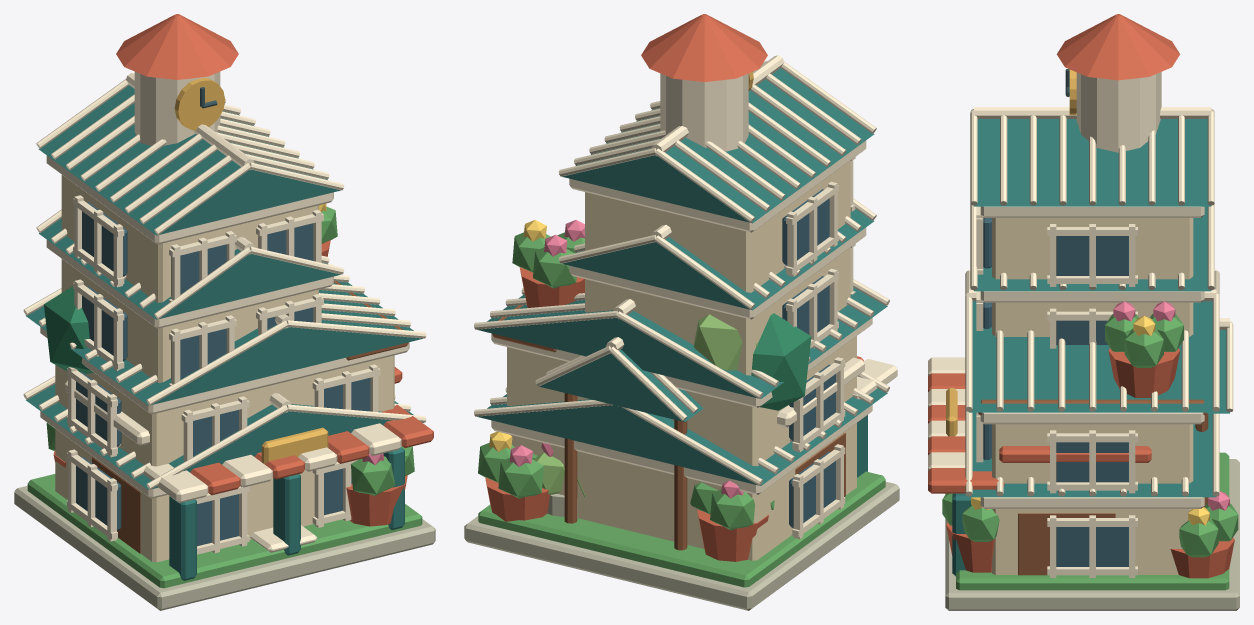
Rendered from commerce.glb.
The picture shows the model from 3 angles, left to right: view 1: azimuth 30°, elevation 25°; view 2: azimuth 150°, elevation 25°; view 3: azimuth 270°, elevation 25°; orthographic projection. The views are drawn at different scales.
Visible parts, largest first — view 1: commerce_mall_4_mesh, commerce_mall_1_mesh, commerce_mall_2_mesh, commerce_mall_3_mesh, commerce_mall_0_mesh, commerce_park_0_mesh, commerce_park_1_mesh; view 2: commerce_mall_4_mesh, commerce_mall_1_mesh, commerce_mall_2_mesh, commerce_mall_3_mesh, commerce_mall_0_mesh, commerce_park_1_mesh, commerce_park_0_mesh; view 3: commerce_mall_4_mesh, commerce_mall_2_mesh, commerce_mall_1_mesh, commerce_mall_3_mesh, commerce_mall_0_mesh, commerce_park_0_mesh, commerce_park_1_mesh.
Boxes of the visible parts, x1=… form: commerce_mall_4_mesh: x1=36, y1=14, x2=344, y2=302; commerce_mall_1_mesh: x1=23, y1=376, x2=433, y2=580; commerce_mall_2_mesh: x1=23, y1=264, x2=426, y2=466; commerce_mall_3_mesh: x1=36, y1=203, x2=408, y2=385; commerce_mall_0_mesh: x1=14, y1=367, x2=435, y2=610; commerce_park_0_mesh: x1=27, y1=422, x2=422, y2=588; commerce_park_1_mesh: x1=44, y1=286, x2=93, y2=374; commerce_mall_4_mesh: x1=559, y1=14, x2=876, y2=292; commerce_mall_1_mesh: x1=474, y1=356, x2=897, y2=560; commerce_mall_2_mesh: x1=474, y1=279, x2=889, y2=466; commerce_mall_3_mesh: x1=492, y1=198, x2=876, y2=375; commerce_mall_0_mesh: x1=464, y1=357, x2=899, y2=610; commerce_park_1_mesh: x1=535, y1=313, x2=811, y2=550; commerce_park_0_mesh: x1=478, y1=442, x2=885, y2=587; commerce_mall_4_mesh: x1=970, y1=14, x2=1214, y2=286; commerce_mall_2_mesh: x1=965, y1=270, x2=1219, y2=493; commerce_mall_1_mesh: x1=928, y1=357, x2=1219, y2=577; commerce_mall_3_mesh: x1=970, y1=203, x2=1214, y2=415; commerce_mall_0_mesh: x1=945, y1=446, x2=1239, y2=610; commerce_park_0_mesh: x1=942, y1=452, x2=1229, y2=590; commerce_park_1_mesh: x1=1195, y1=318, x2=1233, y2=506.
Size of the model in its own units: 2.34 by 3.93 by 2.17.
